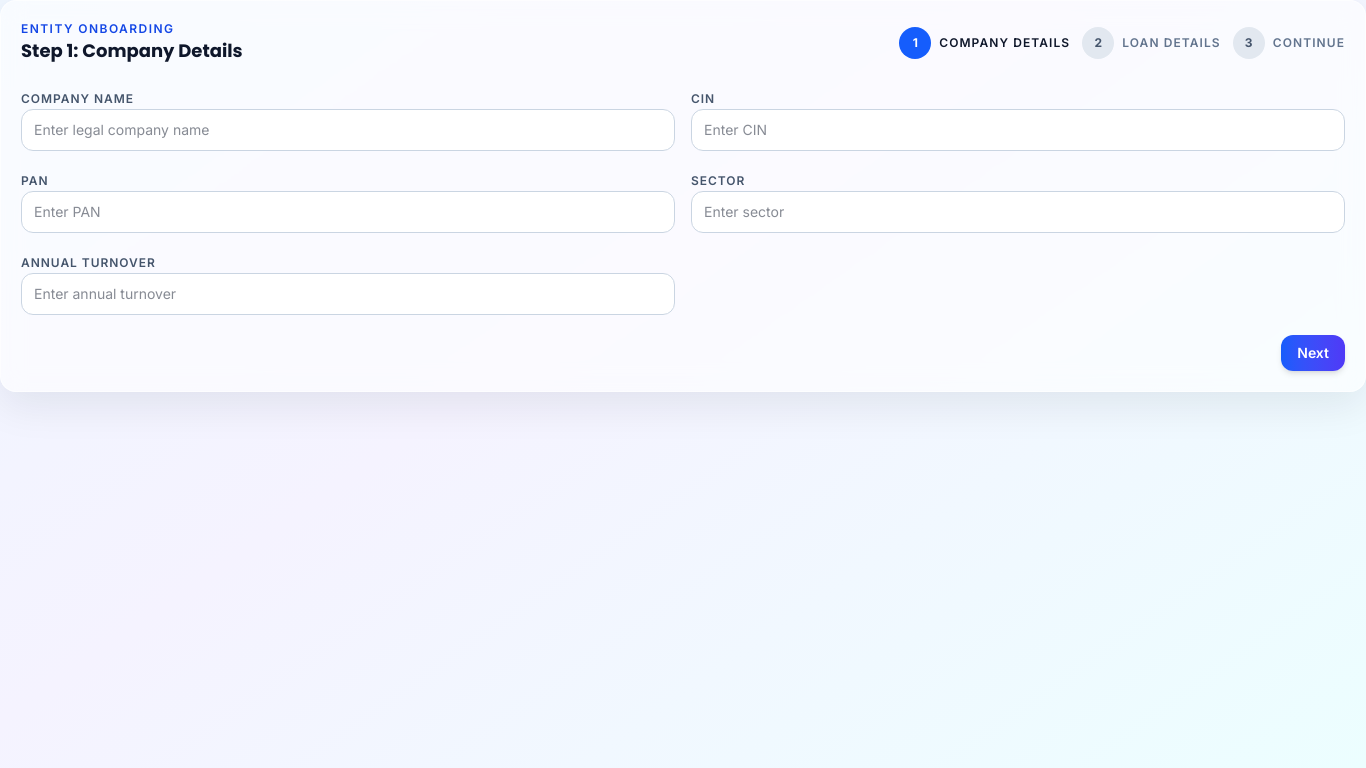
Scenario: EntityOnboarding › shows required field errors before advancing
The image size is (1366, 768).
Click the button "Next" at {"x": 1313, "y": 353}, box left=1281, top=335, right=1345, bottom=371
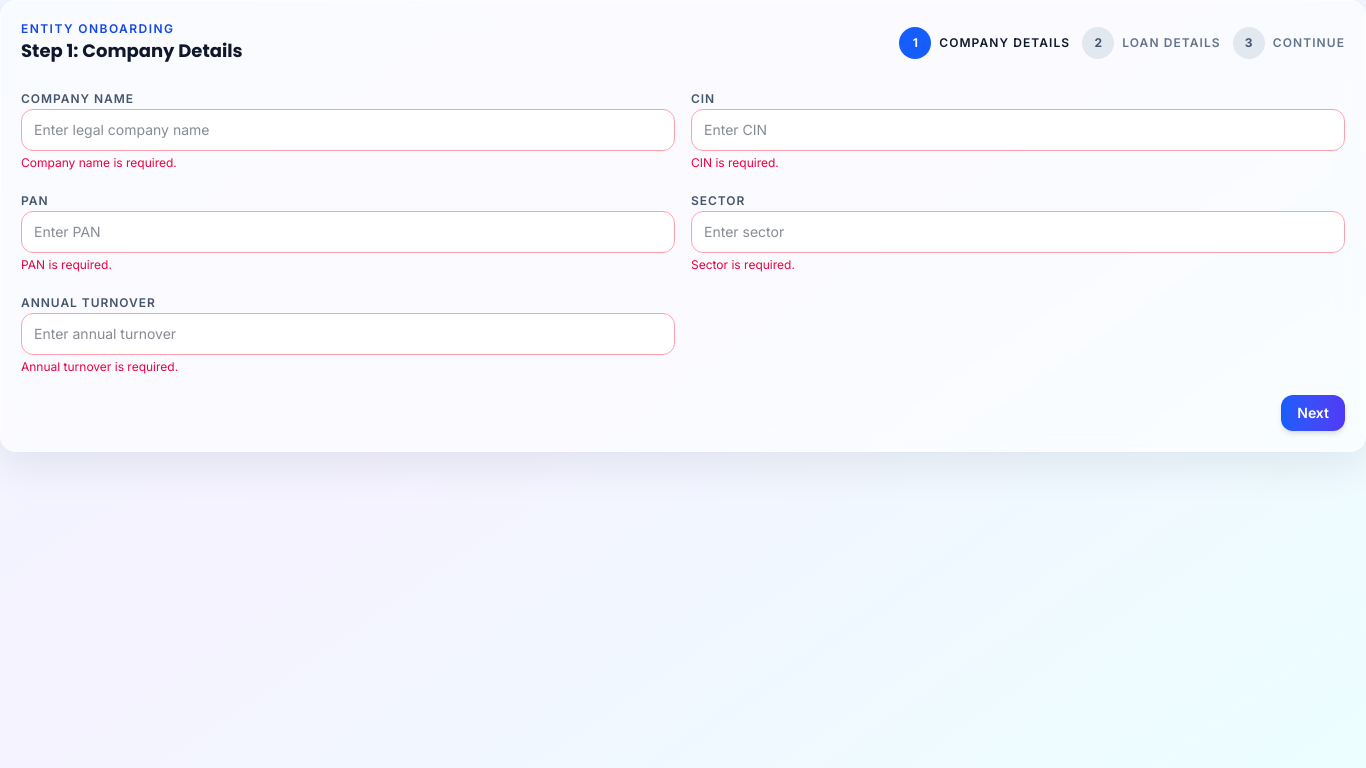
Result: the text "Company name is required." is shown at left=21, top=155, right=177, bottom=170
Result: the text "CIN is required." is shown at left=691, top=155, right=779, bottom=170
Result: the text "PAN is required." is shown at left=21, top=257, right=112, bottom=272
